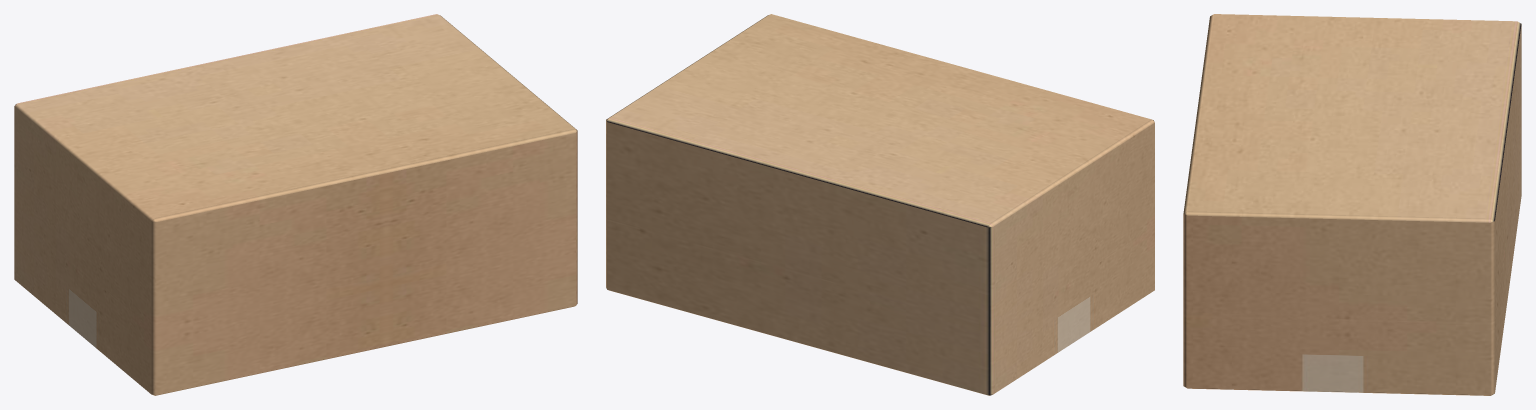
The model's file is 箱子-坐标原点不于中心重合.glb.
3 views of the same model, side by side, from view 1: azimuth 30°, elevation 25°; view 2: azimuth 150°, elevation 25°; view 3: azimuth 270°, elevation 25° (orthographic). The views are drawn at different scales.
Parts seen in each view (by area): view 1: 箱子; view 2: 箱子; view 3: 箱子.
Boxes of the visible parts, left/top/right/bottom form: 箱子: left=14, top=14, right=577, bottom=395; 箱子: left=606, top=14, right=1154, bottom=395; 箱子: left=1183, top=14, right=1521, bottom=395.
Size of the model in its own units: 1.71 by 0.6804 by 1.18.
1 material, 1 textured.
